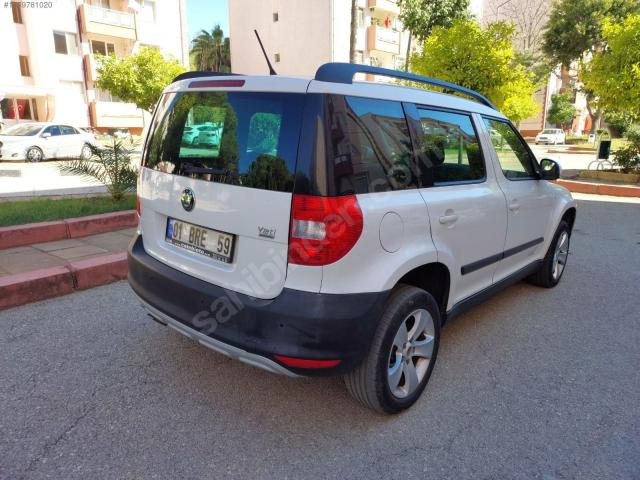plaka: (166, 219, 234, 263)
